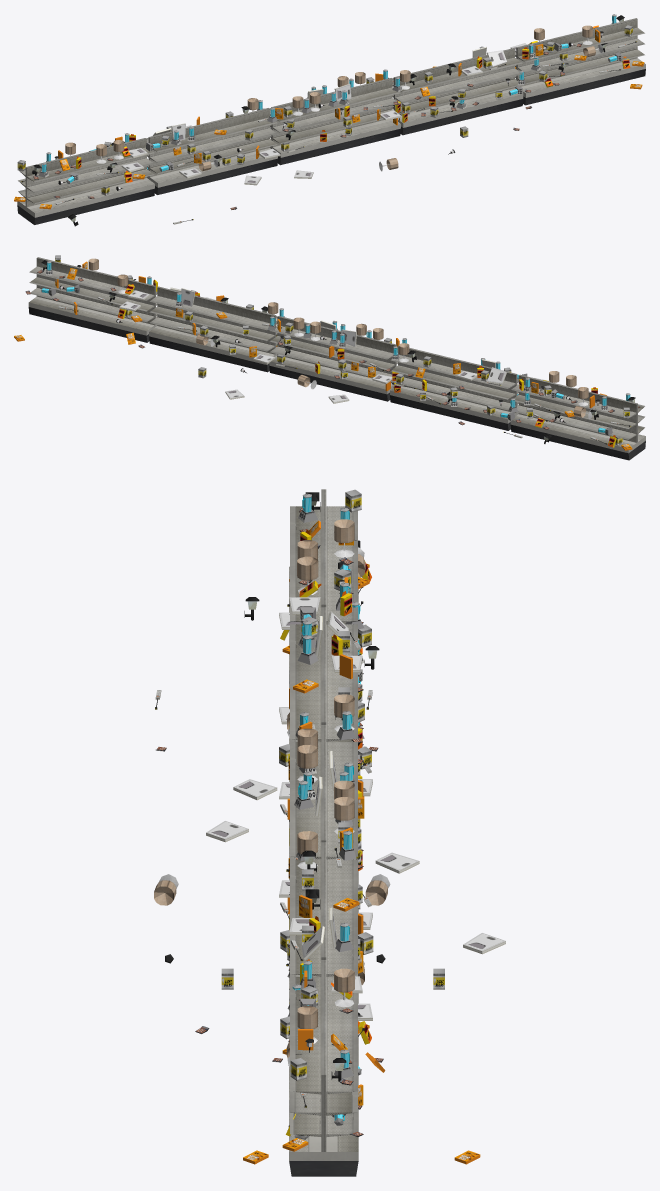
Rendered from Messy_Electronics_Shelf_Medium.fbx.
The picture shows the model from 3 angles, top to bottom: view 1: azimuth 30°, elevation 25°; view 2: azimuth 150°, elevation 25°; view 3: azimuth 270°, elevation 25°; orthographic projection. The views are drawn at different scales.
Parts seen in each view (by area): view 1: Messy_Electronics_Shelf_Medium; view 2: Messy_Electronics_Shelf_Medium; view 3: Messy_Electronics_Shelf_Medium.
Boxes of the visible parts, x1,y1,x2,y2 form: Messy_Electronics_Shelf_Medium: (14, 14, 645, 226); Messy_Electronics_Shelf_Medium: (14, 255, 645, 460); Messy_Electronics_Shelf_Medium: (154, 489, 505, 1176).
Bounding box in the file's own units: 2400 × 217 × 603.
